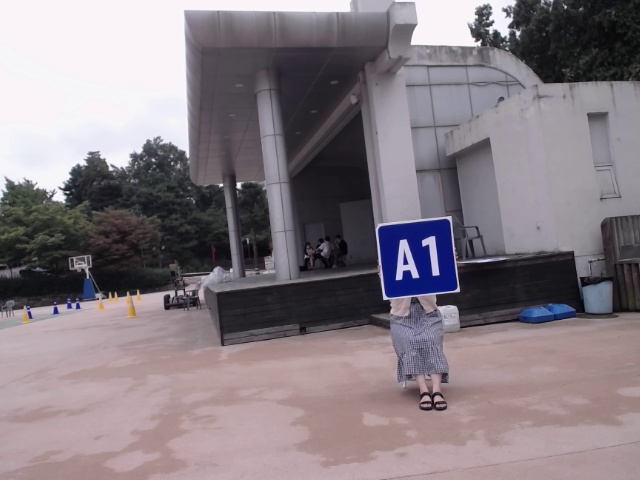delivery_a1: (376, 218, 459, 299)
